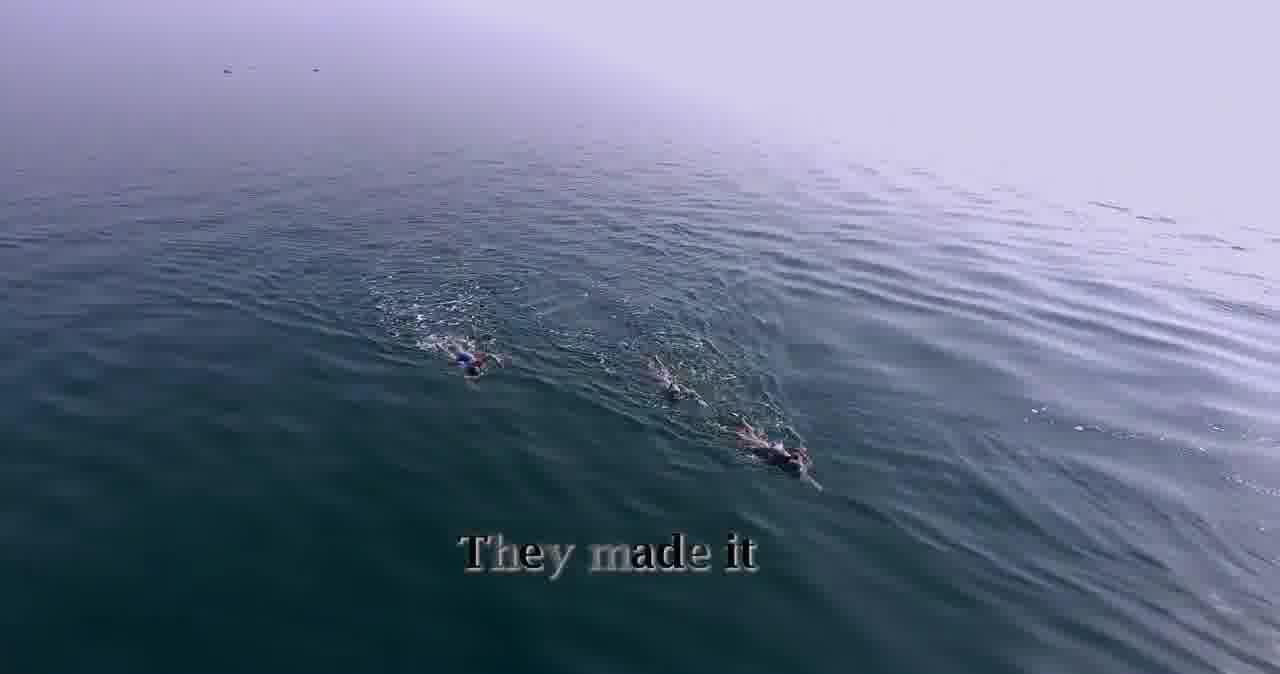human: (772, 438, 825, 492), (660, 368, 702, 410), (454, 349, 498, 381)
